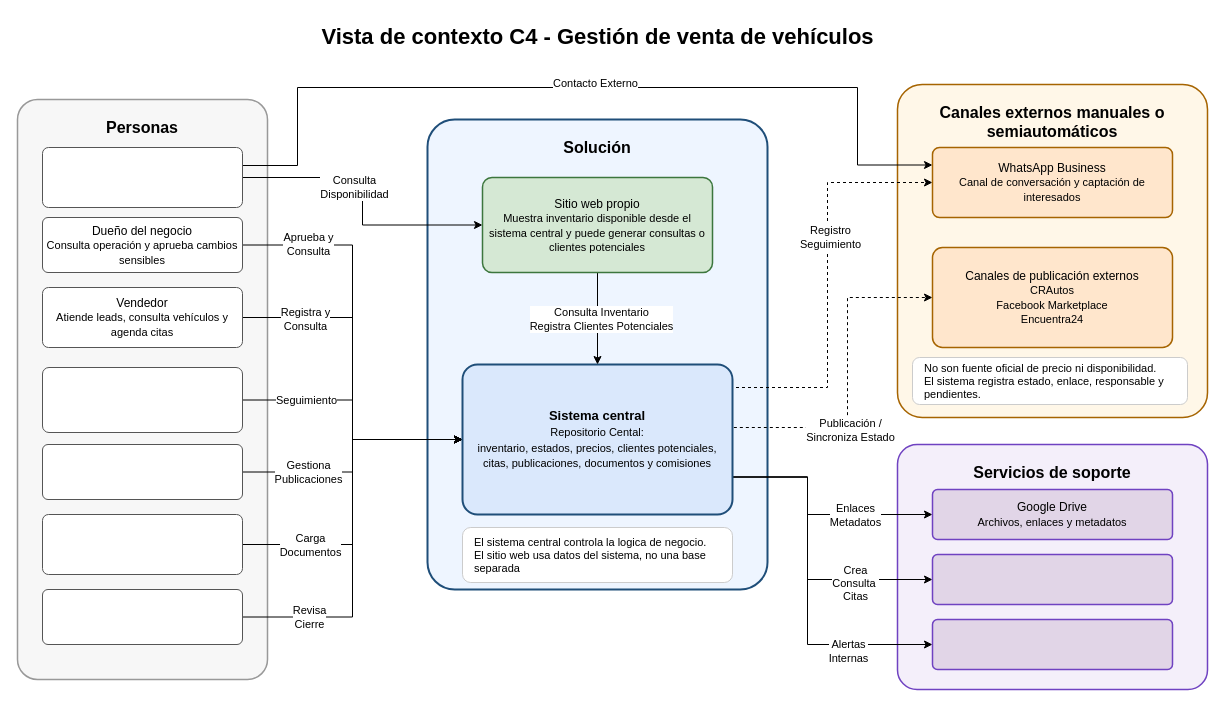
This 1226x707 diagram has some shape labels left out. Each missing label, with the centre of its shape:
"Cliente comprador Consulta por sitio web o canales externos" goes at pixel 142 177.
"Consignante / propietario del vehículo Entrega el vehículo y recibe seguimiento" goes at pixel 142 399.
"Correo / notificaciones Alertas y tareas pendientes" goes at pixel 1052 644.
"Encargado de fotos y documentos Carga archivos y completa la ficha" goes at pixel 142 544.
"Encargado de publicaciones Actualiza canales externos" goes at pixel 142 472.
"Google Calendar Apoyo para citas" goes at pixel 1052 579.
"Responsable de comisiones Revisa cierre de venta y comisión" goes at pixel 142 616.
